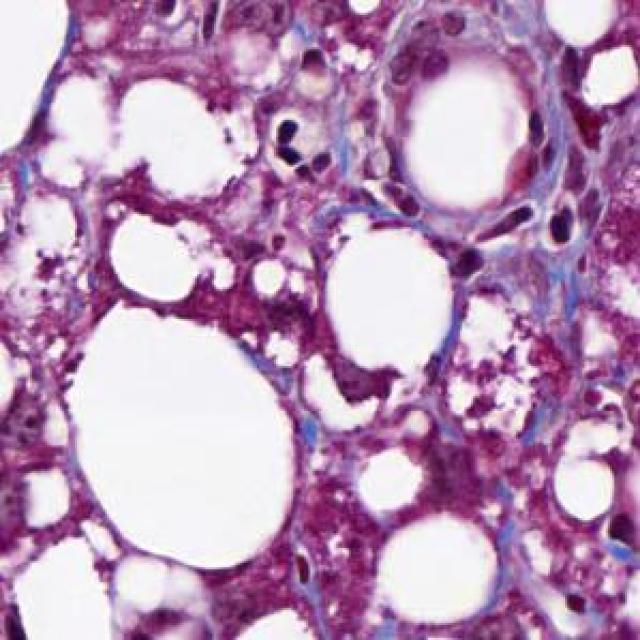inflammation: (259, 102, 342, 192), (505, 182, 587, 255)
